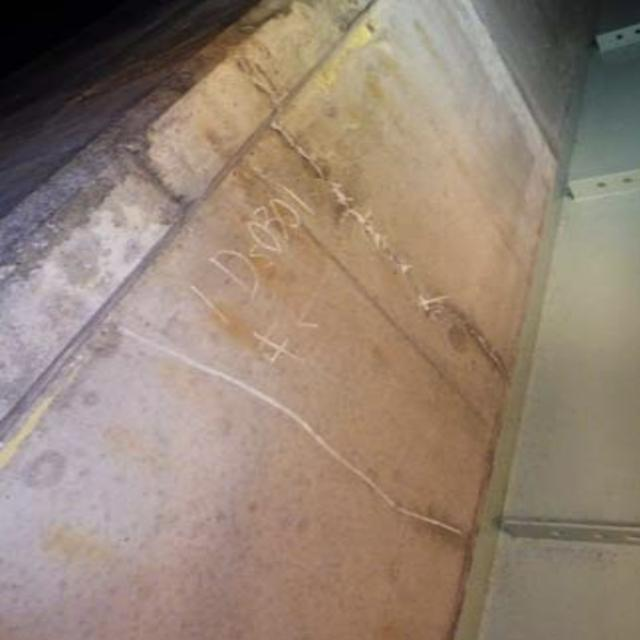spalling: (310, 174, 464, 333)
